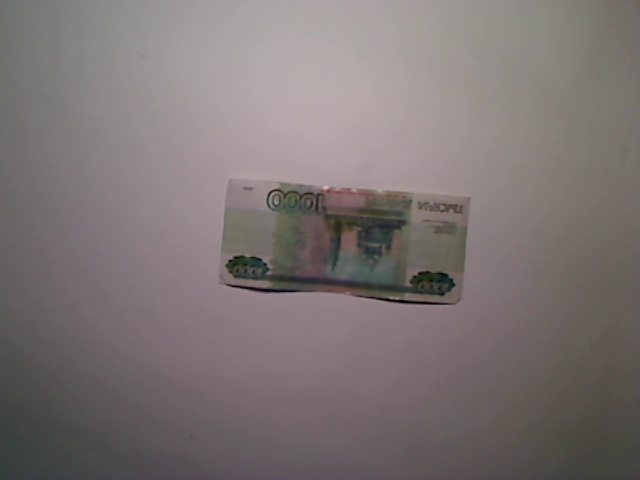banknotes: (217, 178, 471, 307)
